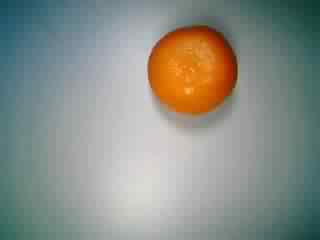orange: (141, 20, 239, 119)
